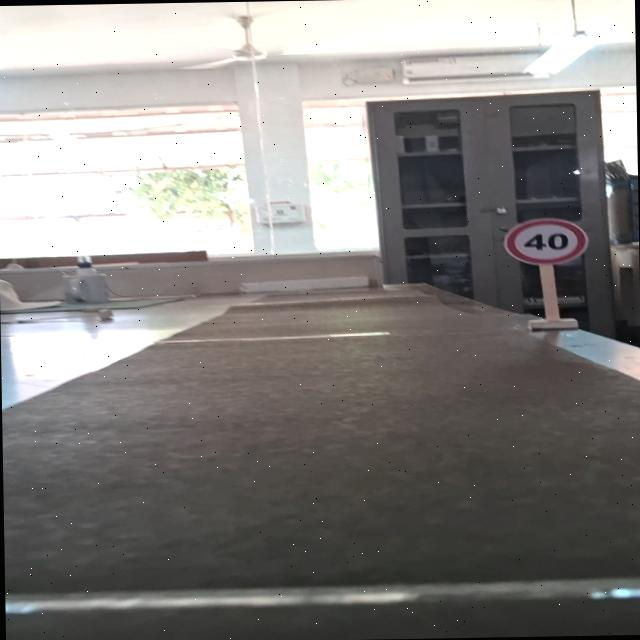Speed40: (500, 215, 590, 268)
